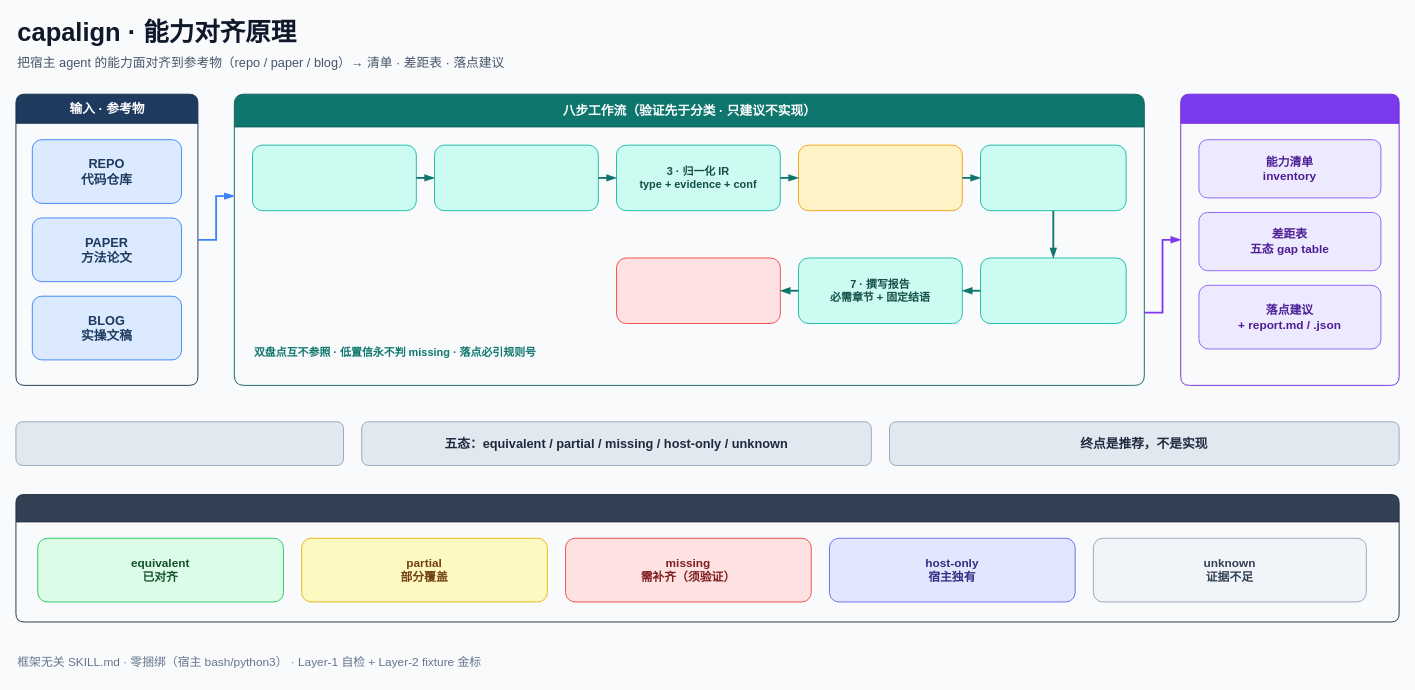
The diagram is 1415 pixels wide and 690 high, and some of its shapes have lost their labels. The box of each missing label's shape, as (x1, y1, x2, y2) in pixels:
1 · 盘点参考物 CLI / 模块 / 文档 / 指纹: (252, 144, 416, 211)
2 · 盘点宿主面 扫描 + 自审 + 询问: (434, 144, 598, 211)
4 · 交叉验证 grep / 读产物 spec: (798, 144, 962, 211)
5 · 差距分类 五态 × 三来源: (980, 144, 1126, 211)
6 · 落点建议 skill / tool / 扩既有 / runner / 跳过: (980, 257, 1126, 324)
8 · 自检门 8 项 · 任一 fail 回炉: (616, 257, 780, 324)
差距五态: (15, 494, 1399, 622)
框架无关 · 可插拔 · 零捆绑: (15, 421, 344, 465)
输出: (1180, 93, 1399, 385)
